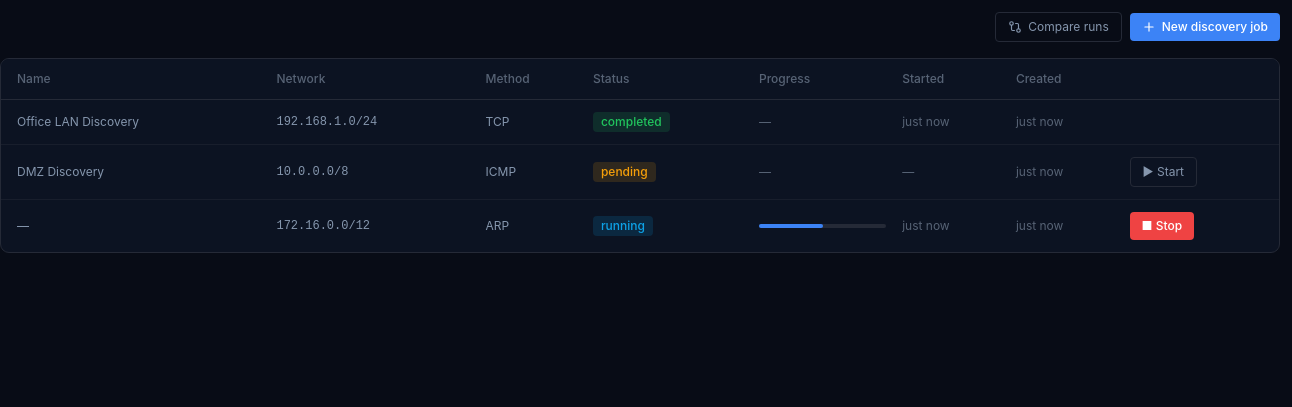
Scenario: DiscoveryPage › hides compare panel when close button clicked
The image size is (1292, 407).
Click the button "Compare runs" at (1058, 27), box [995,12,1122,42]
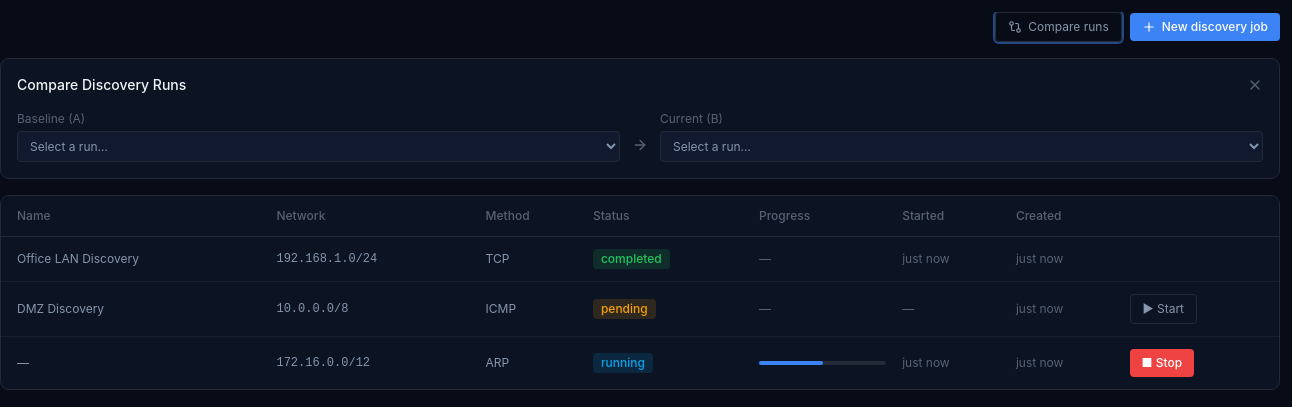
Expected: the heading "Compare Discovery Runs" is shown, [17,75,186,95]
Click the button named "close compare panel" at (1255, 85), box [1247,77,1263,93]
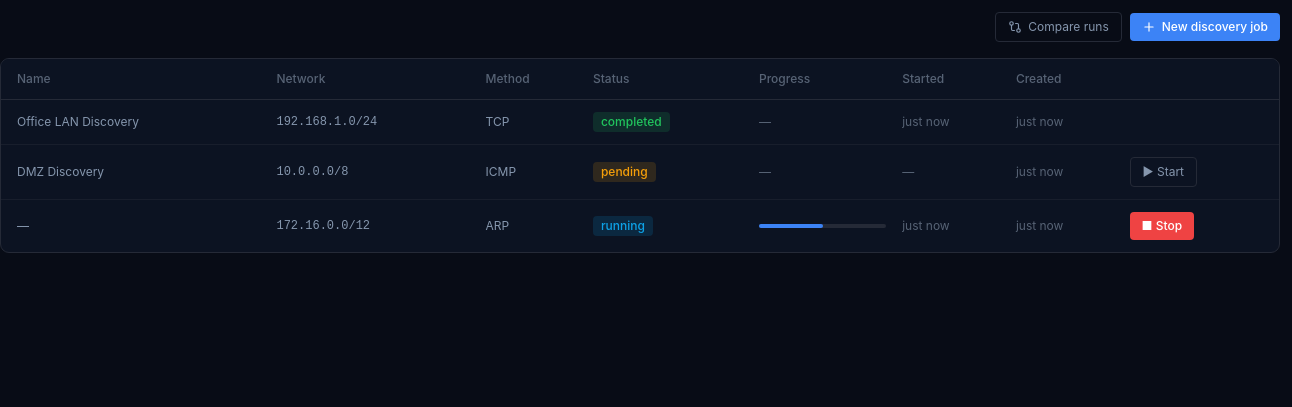
Expected: the heading "Compare Discovery Runs" is gone
